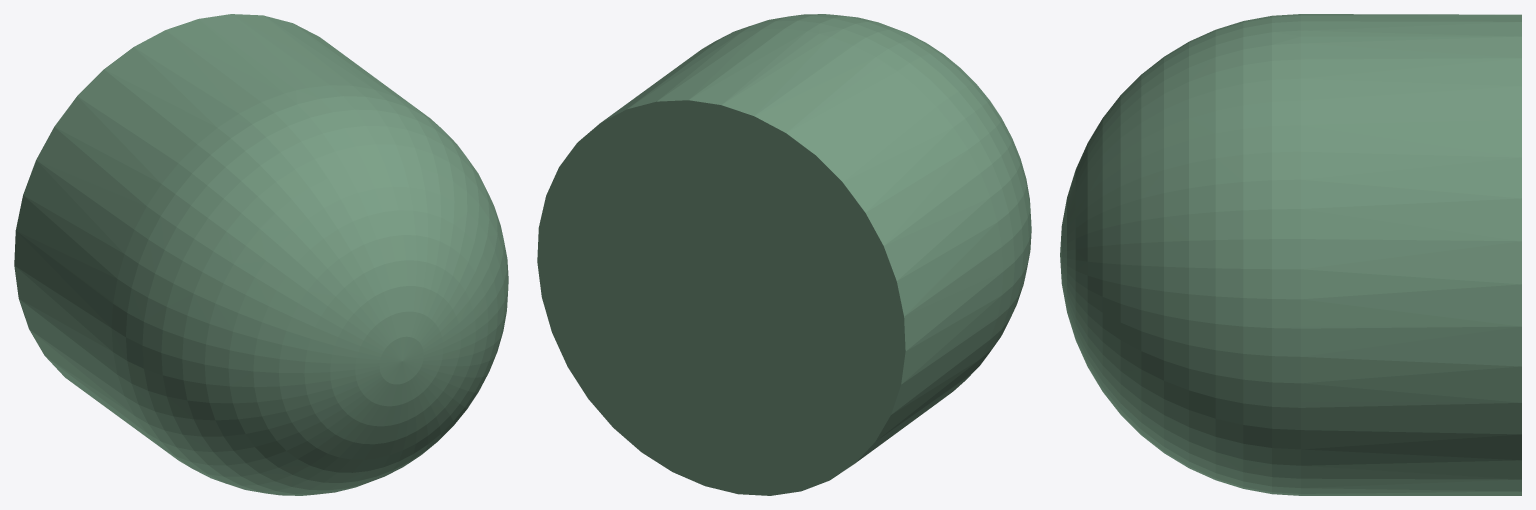
File: link_tip.obj
3 renders of one model, left to right at view 1: azimuth 30°, elevation 25°; view 2: azimuth 150°, elevation 25°; view 3: azimuth 270°, elevation 25°, orthographic. The views are drawn at different scales.
Parts seen in each view (by area): view 1: geometry_0; view 2: geometry_0; view 3: geometry_0.
Part boxes in pixels (<box>): geometry_0: <box>14,14,508,495</box>; geometry_0: <box>537,14,1031,495</box>; geometry_0: <box>1060,14,1521,495</box>.
Bounding box in the file's own units: 0.024 × 0.024 × 0.023.
